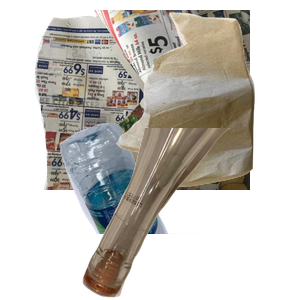glass: (80, 128, 300, 300)
paper: (32, 10, 272, 190)
plastic: (57, 120, 284, 300)
trash: (114, 10, 300, 189)
